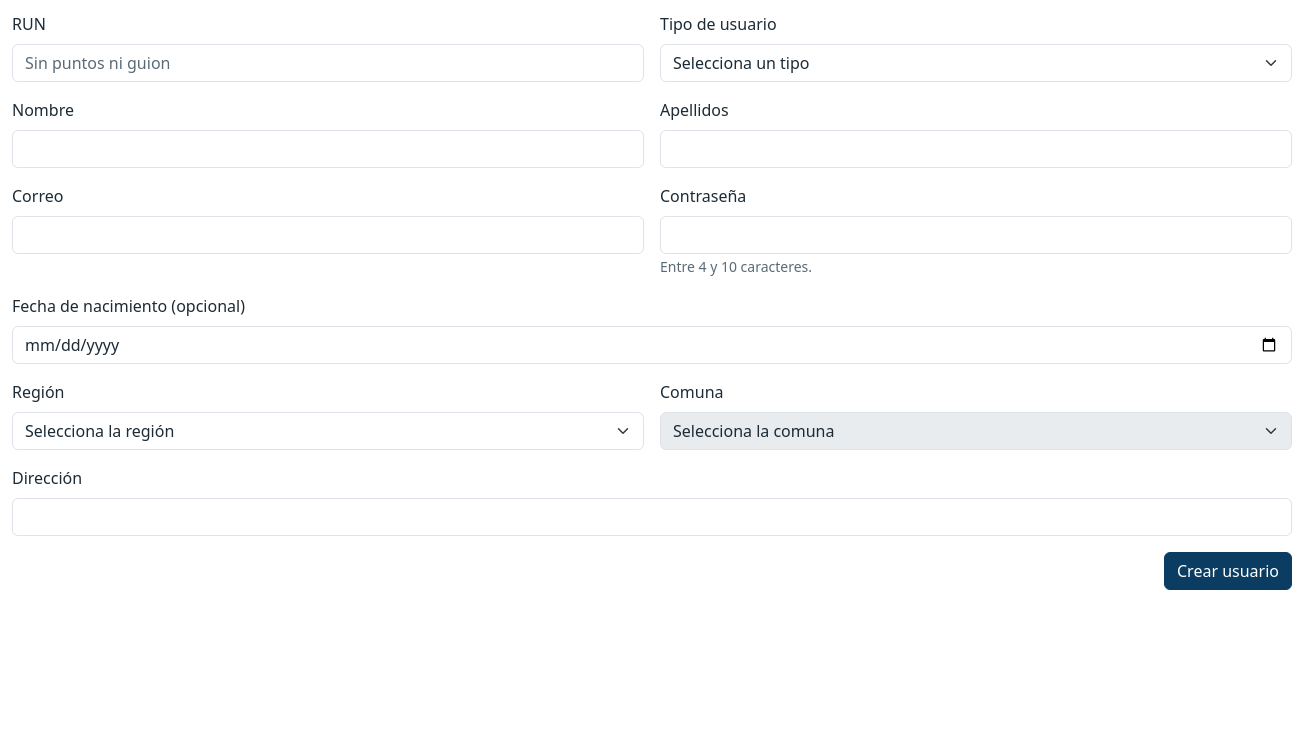
Test: FormularioUsuario › en modo nuevo exige contraseña y rol
This screenshot has width=1304, height=732.
What coordinates should you click on to do the following:
click the button "Crear usuario"
I would click on:
 (1228, 571)
Its box is [1164,552,1292,590].
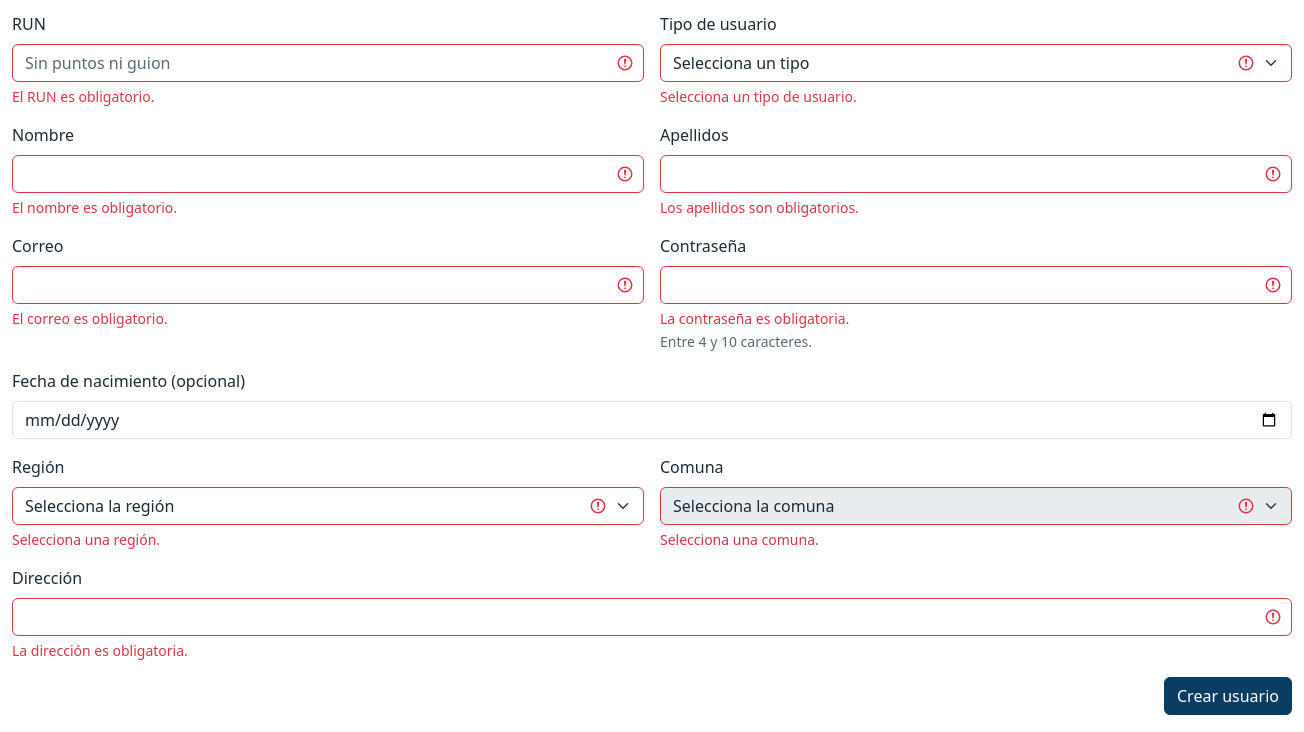
Expected: the text "La contraseña es obligatoria." is shown, [660,309,849,328]
Expected: the text "Selecciona un tipo de usuario." is shown, [660,87,857,106]
